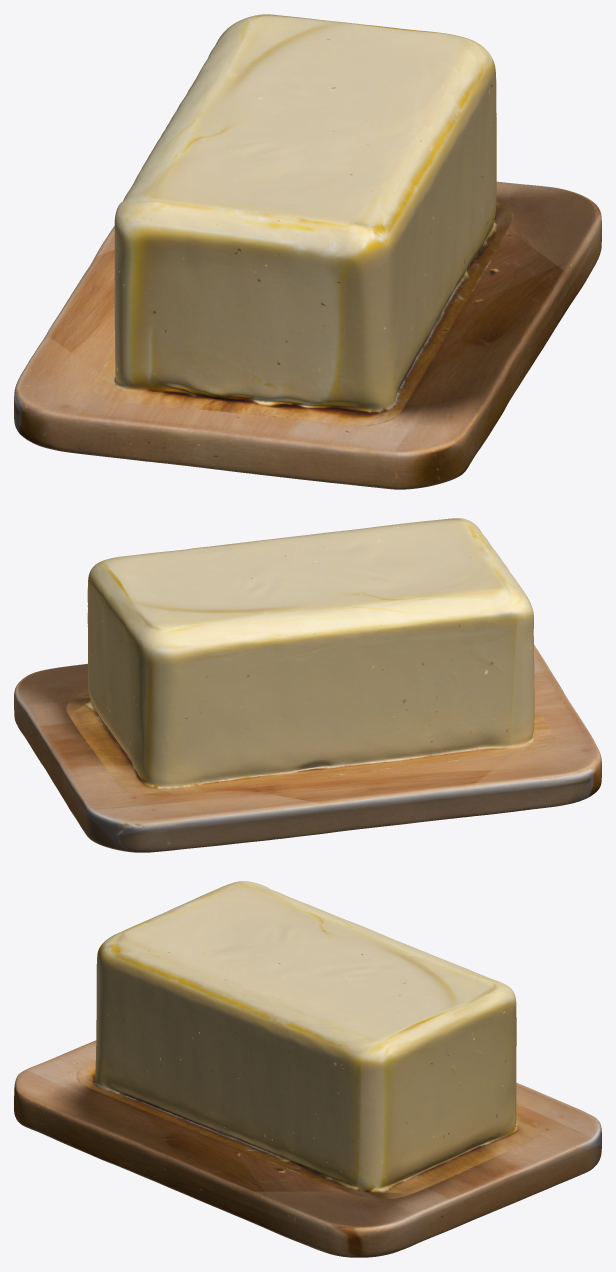
The model's file is Meshy_AI_butter_0204114322_texture.glb.
The picture shows the model from 3 angles, top to bottom: view 1: azimuth 30°, elevation 25°; view 2: azimuth 150°, elevation 25°; view 3: azimuth 270°, elevation 25°; orthographic projection. The views are drawn at different scales.
Bounding box in the file's own units: 2 × 0.6676 × 2.
1 material, 1 textured.
